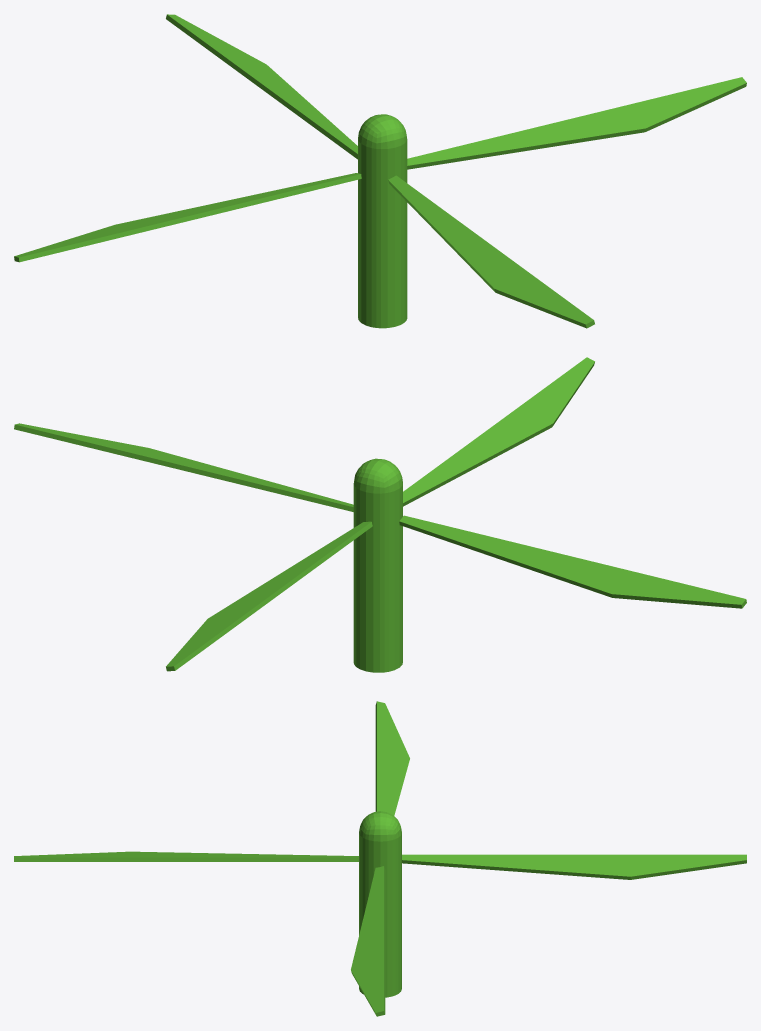
Rendered from Propellers.fbx.
3 views of the same model, one above another, from view 1: azimuth 30°, elevation 25°; view 2: azimuth 150°, elevation 25°; view 3: azimuth 270°, elevation 25° (orthographic). The views are drawn at different scales.
Parts seen in each view (by area): view 1: propper cap propeller; view 2: propper cap propeller; view 3: propper cap propeller.
Part boxes in pixels (x1,y1,x2,y2): propper cap propeller: [14, 14, 746, 328]; propper cap propeller: [14, 357, 746, 672]; propper cap propeller: [14, 701, 746, 1016].
Size of the model in its own units: 170 by 45 by 170.
